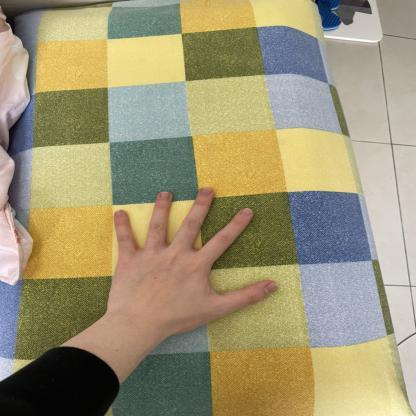bare_hand: (96, 179, 296, 354)
